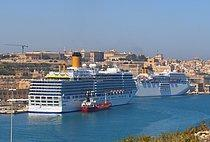Ship: (26, 60, 142, 117)
